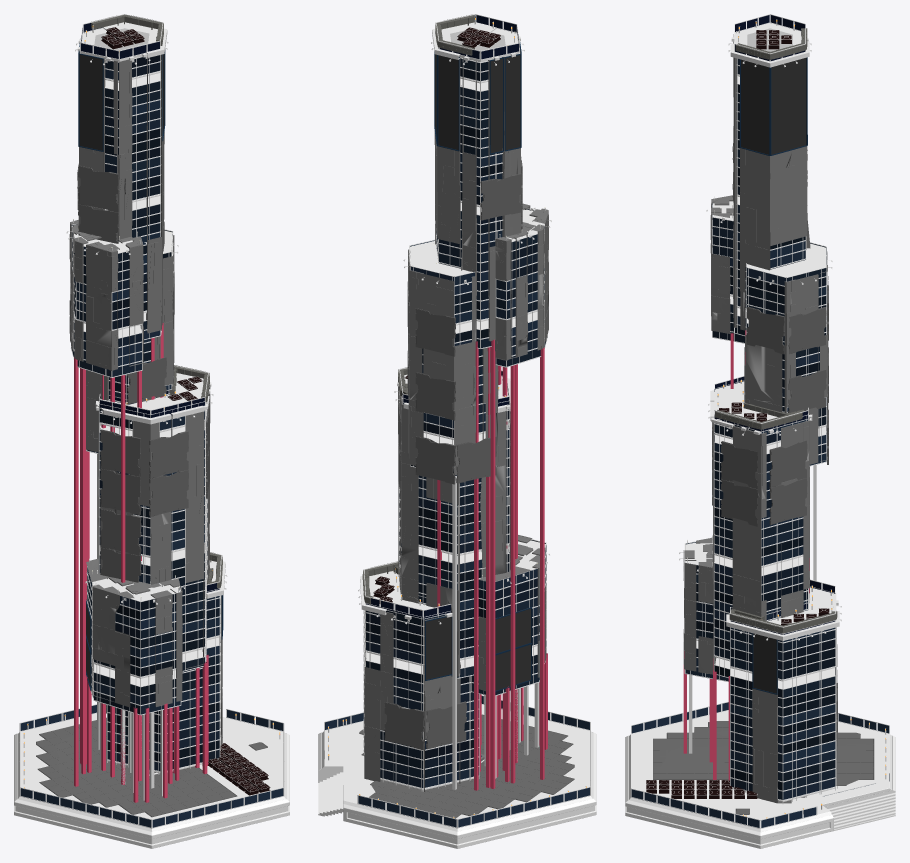
File: building_geo_030.fbx
The picture shows the model from 3 angles, left to right: view 1: azimuth 30°, elevation 25°; view 2: azimuth 150°, elevation 25°; view 3: azimuth 270°, elevation 25°; orthographic projection. The views are drawn at different scales.
Visible parts, largest first — view 1: details, floors, glass, facade, path, ads; view 2: details, floors, glass, facade, path, ads; view 3: details, glass, floors, facade, path, ads.
Boxes of the visible parts, left/top/right/bottom form: details: left=36, top=14, right=270, bottom=816; floors: left=14, top=16, right=289, bottom=848; glass: left=20, top=23, right=283, bottom=827; facade: left=19, top=14, right=284, bottom=828; path: left=66, top=41, right=227, bottom=713; ads: left=79, top=52, right=164, bottom=686; details: left=360, top=15, right=573, bottom=818; floors: left=318, top=16, right=596, bottom=848; glass: left=325, top=15, right=589, bottom=827; facade: left=324, top=14, right=590, bottom=828; path: left=358, top=42, right=551, bottom=750; ads: left=426, top=48, right=530, bottom=690; details: left=646, top=22, right=873, bottom=814; glass: left=631, top=15, right=889, bottom=827; floors: left=625, top=23, right=895, bottom=848; facade: left=631, top=14, right=889, bottom=828; path: left=679, top=43, right=841, bottom=738; ads: left=741, top=58, right=806, bottom=693.
Size of the model in its own units: 3012 by 7853 by 2610.
